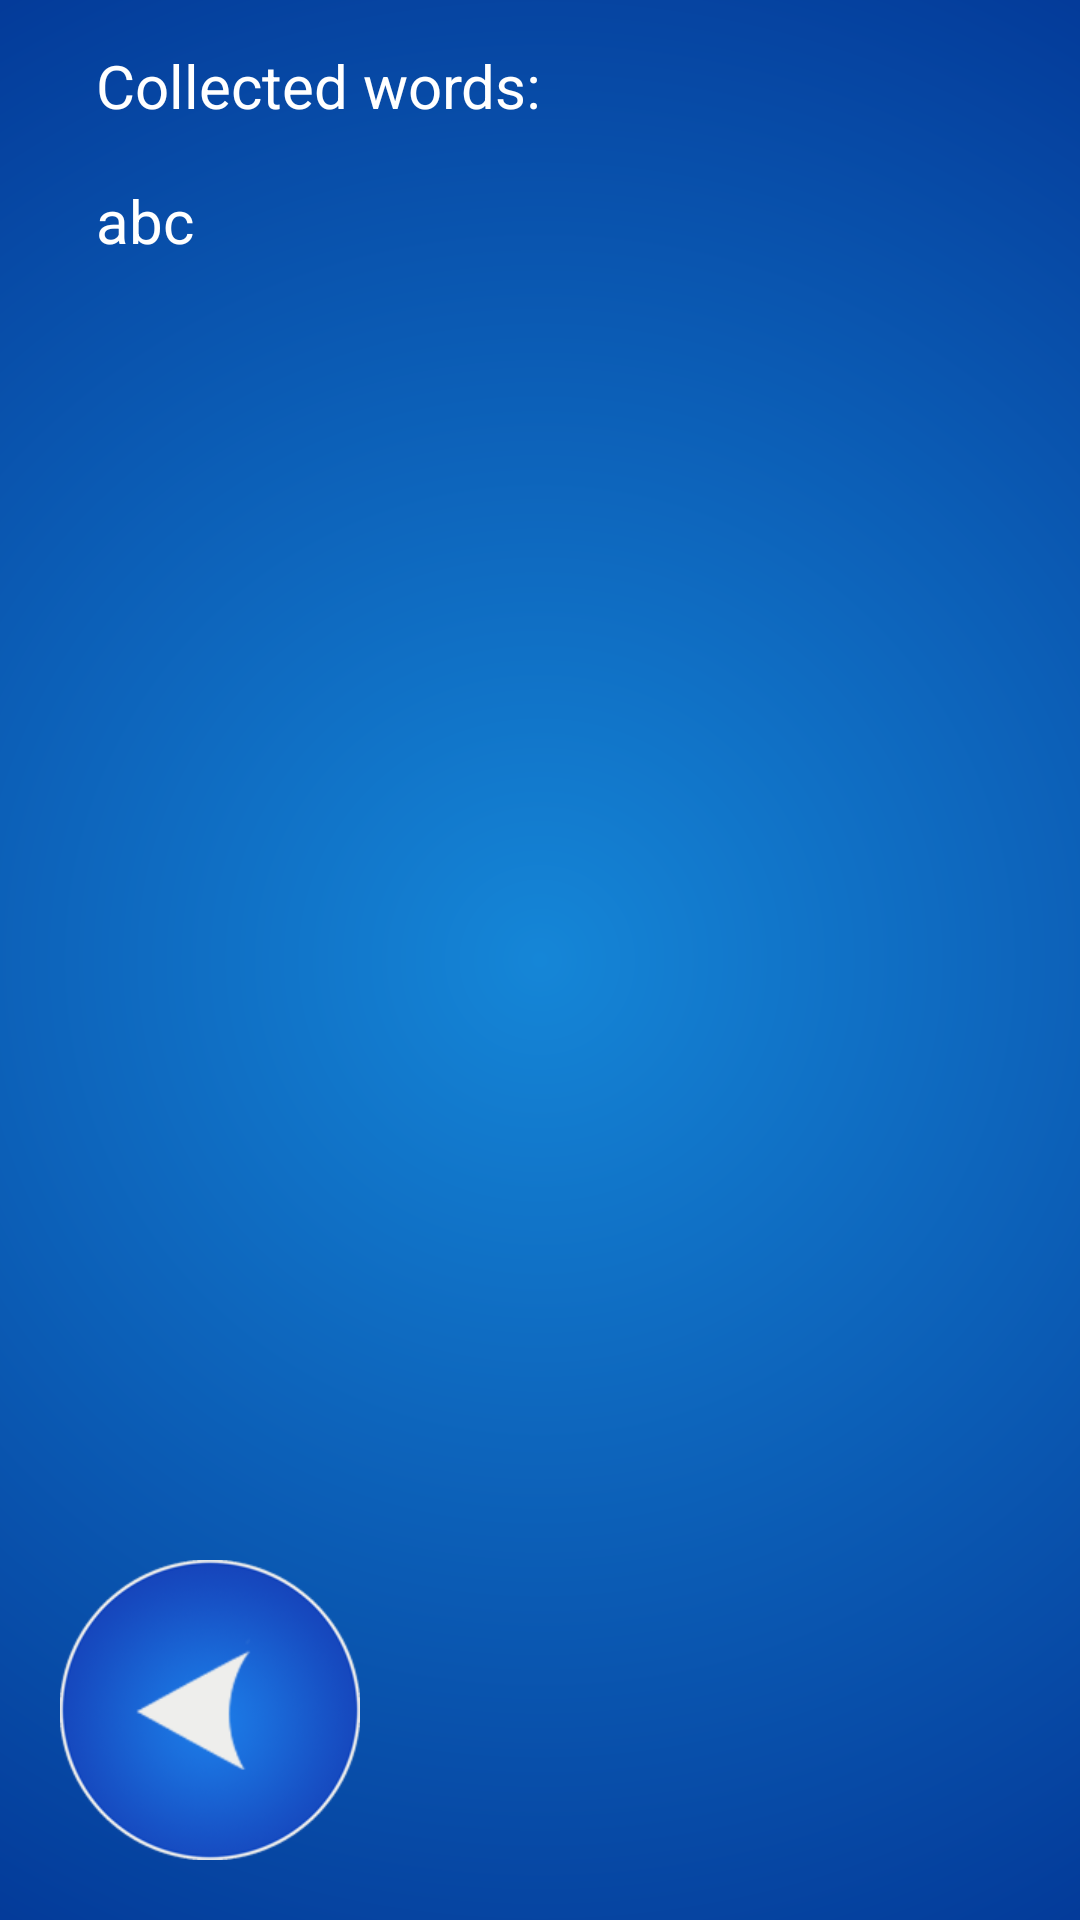

Named icons in this screenshot (1080 x 1920) and their centers, (x,y):
back: (210,1710)
